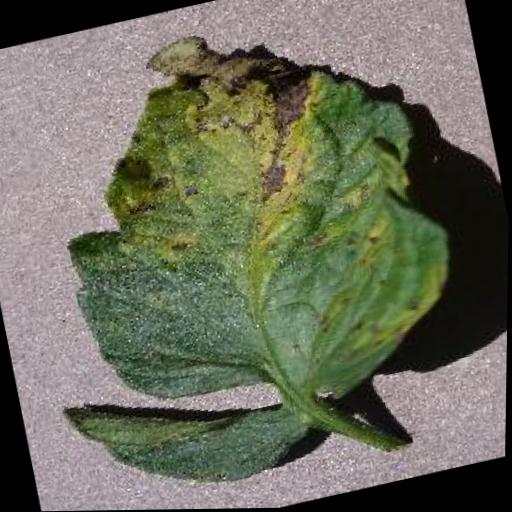Septoria: (0, 0, 490, 512)
